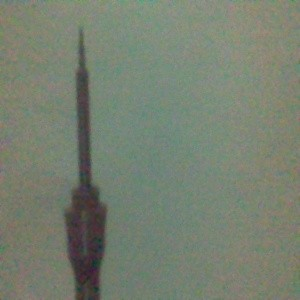solder: (63, 27, 109, 300)
